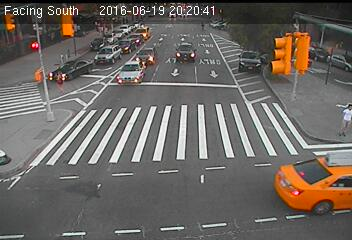neg: (153, 83, 181, 120), (81, 131, 104, 162), (106, 59, 126, 87), (179, 151, 192, 170), (197, 19, 208, 33), (166, 37, 176, 51)
pos: (332, 99, 351, 140)
